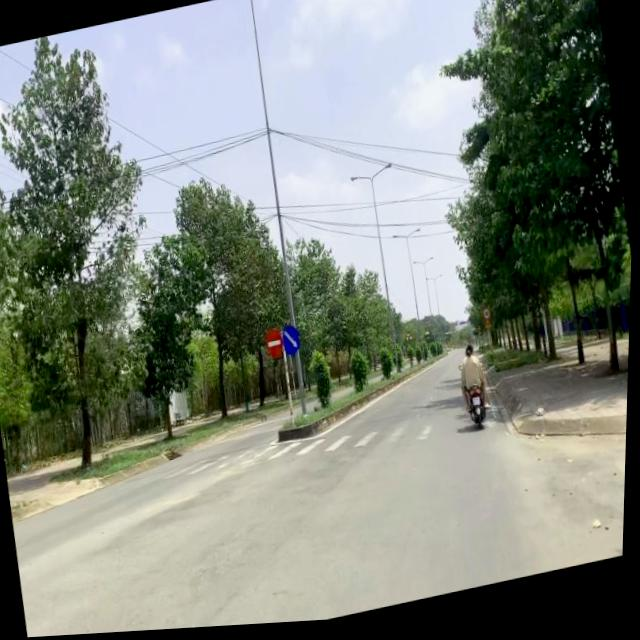Cam di nguoc chieu: (266, 330, 289, 364)
Vong chuong ngai vat sang phai: (282, 326, 305, 361)
